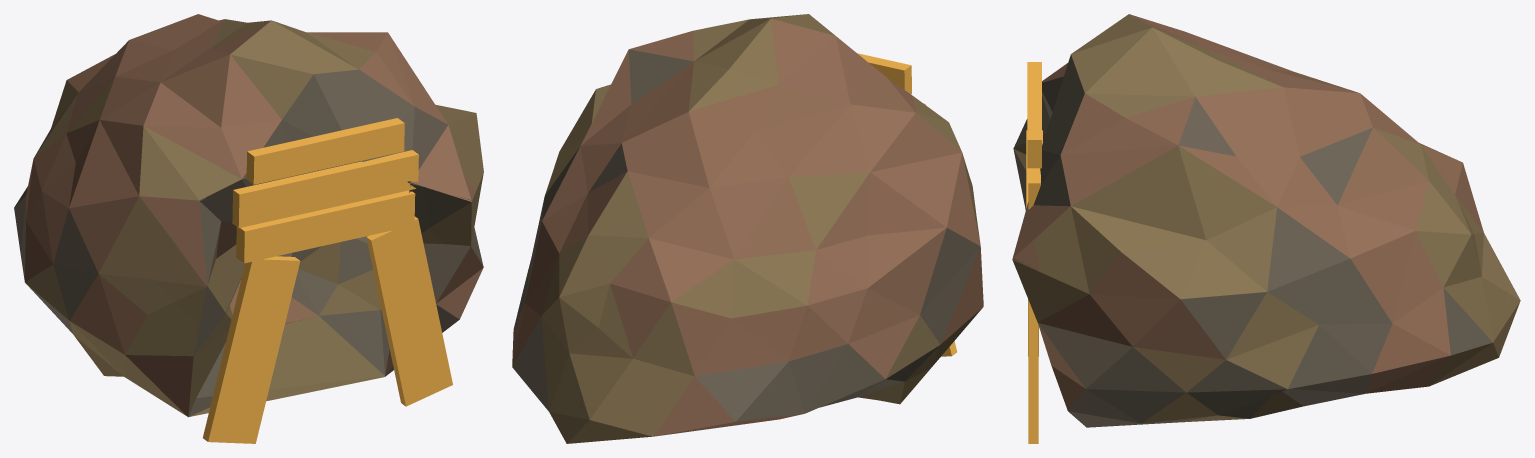
Rendered from Cave01.fbx.
3 views of the same model, side by side, from view 1: azimuth 30°, elevation 25°; view 2: azimuth 150°, elevation 25°; view 3: azimuth 270°, elevation 25° (orthographic). The views are drawn at different scales.
Visible parts, largest first — view 1: Cube; view 2: Cube; view 3: Cube.
Boxes of the visible parts, <box> form: Cube: <box>14,14,483,443</box>; Cube: <box>512,14,983,443</box>; Cube: <box>1012,14,1520,443</box>.
Size of the model in its own units: 455 by 404 by 506.
